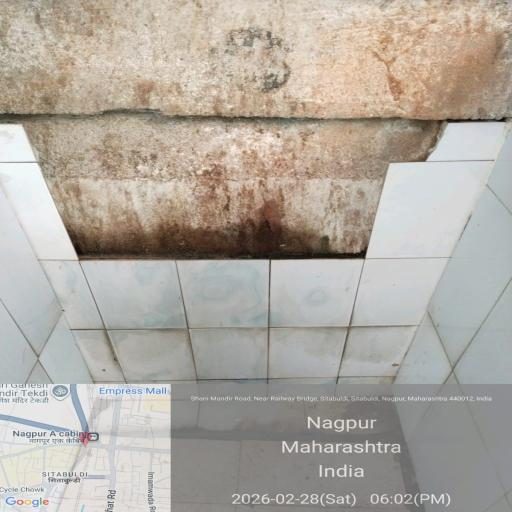damage: (34, 120, 419, 287)
dirty_floor: (28, 49, 479, 480)
